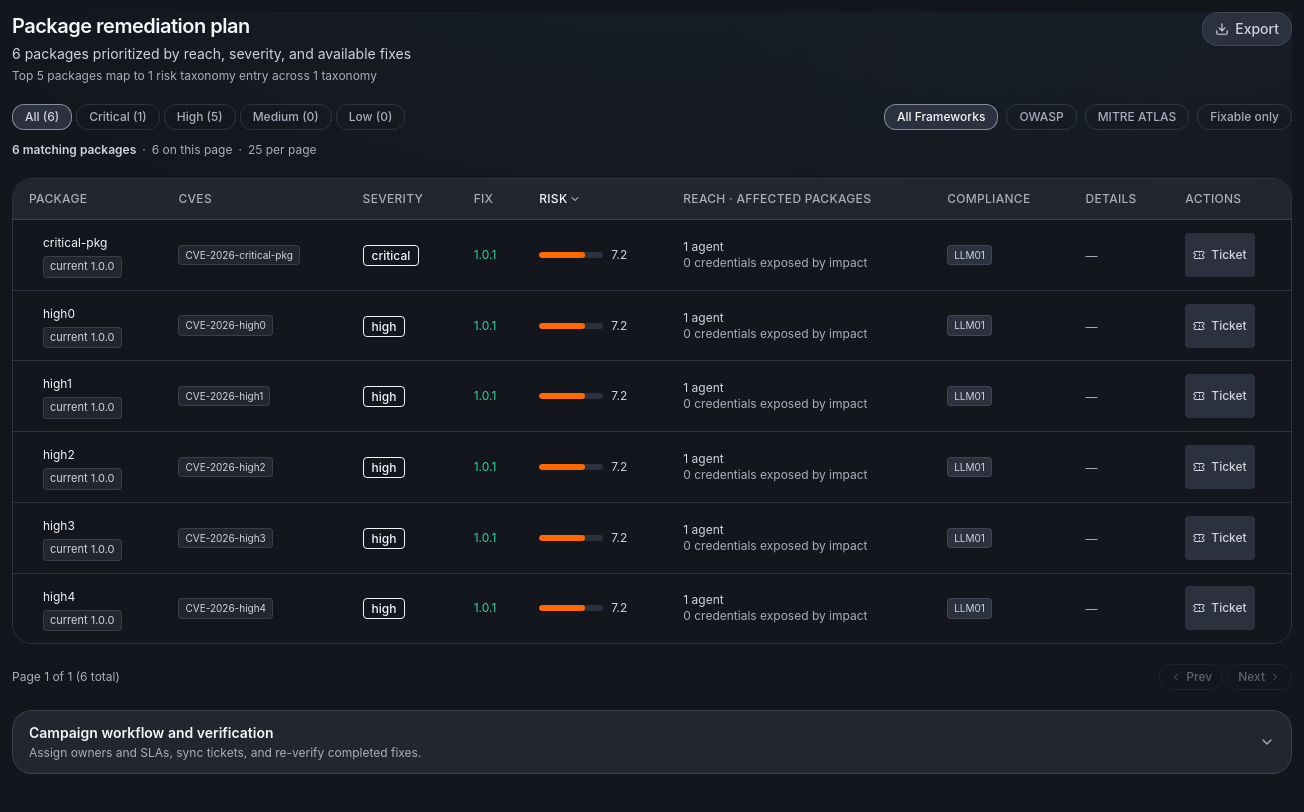
Test: RemediationPage › keeps the mapping summary aligned with the filtered package set
The image size is (1304, 812).
Click the button "Critical (1)".
click(118, 117)  # box [76,104,160,130]
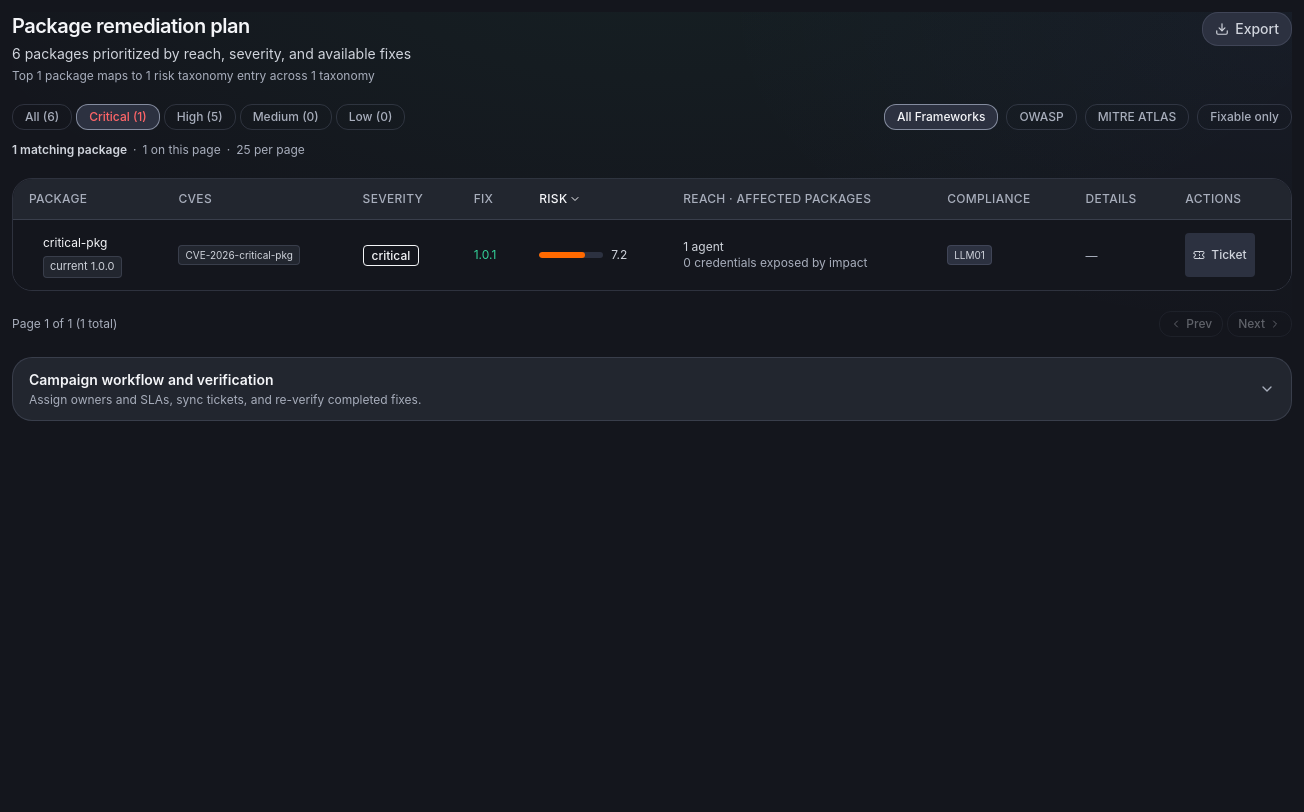
expect the text "Top 1 package maps to 1 risk taxonomy entry across 1 taxonomy" is shown: met, box [12,68,411,84]
Click the button "Low (0)".
click(371, 117)  # box [336,104,405,130]
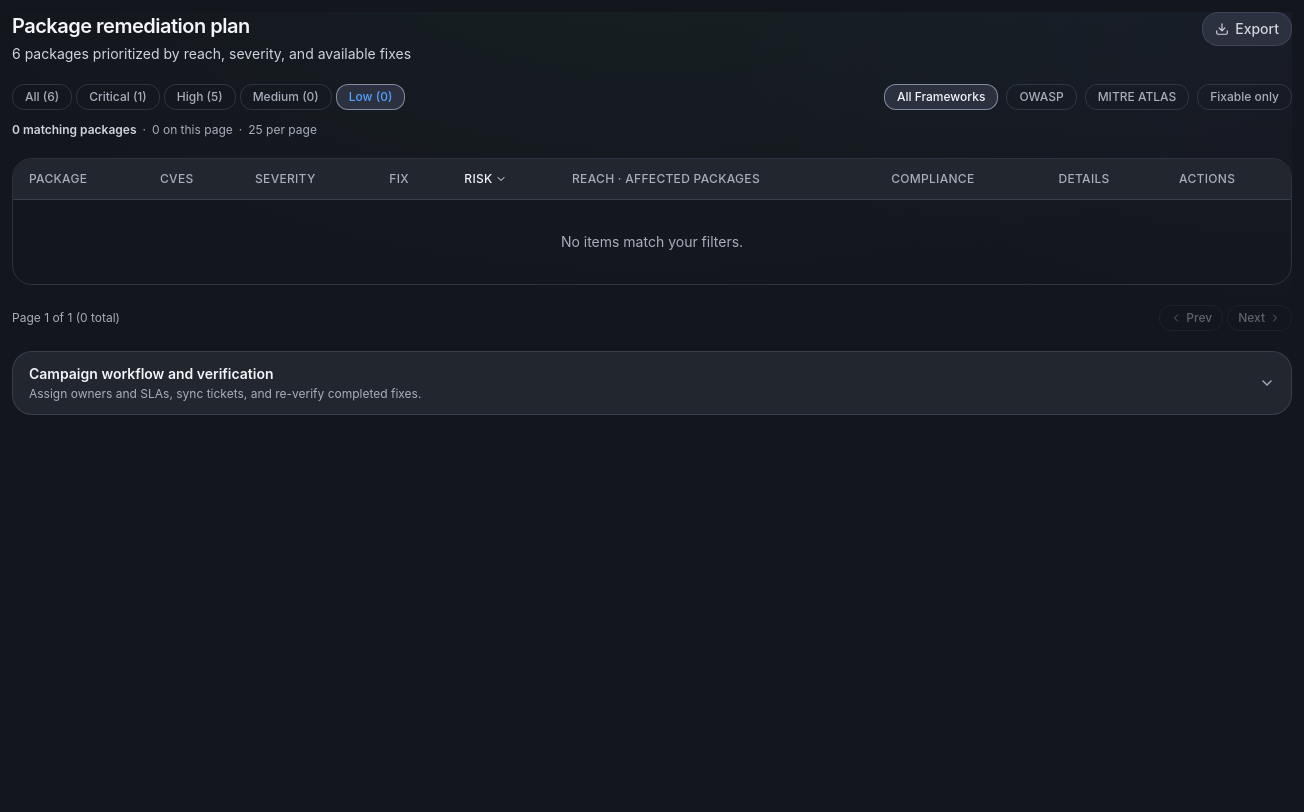
expect the text "risk taxonomy entr" is gone: met
